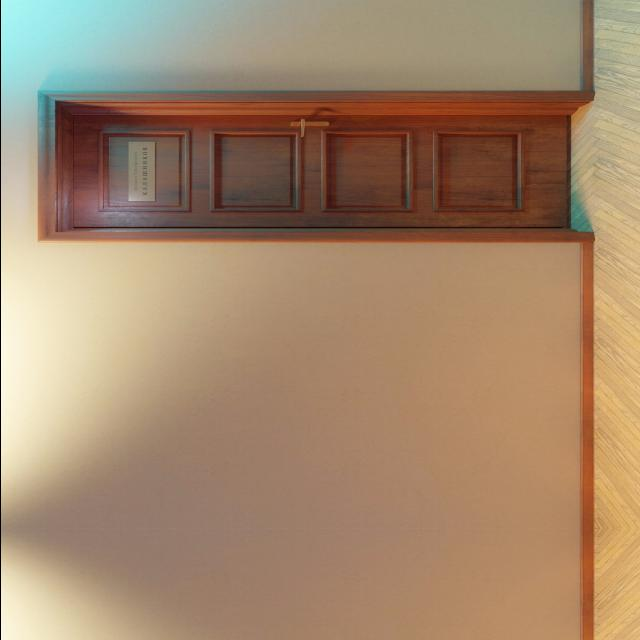close: (44, 101, 584, 235)
